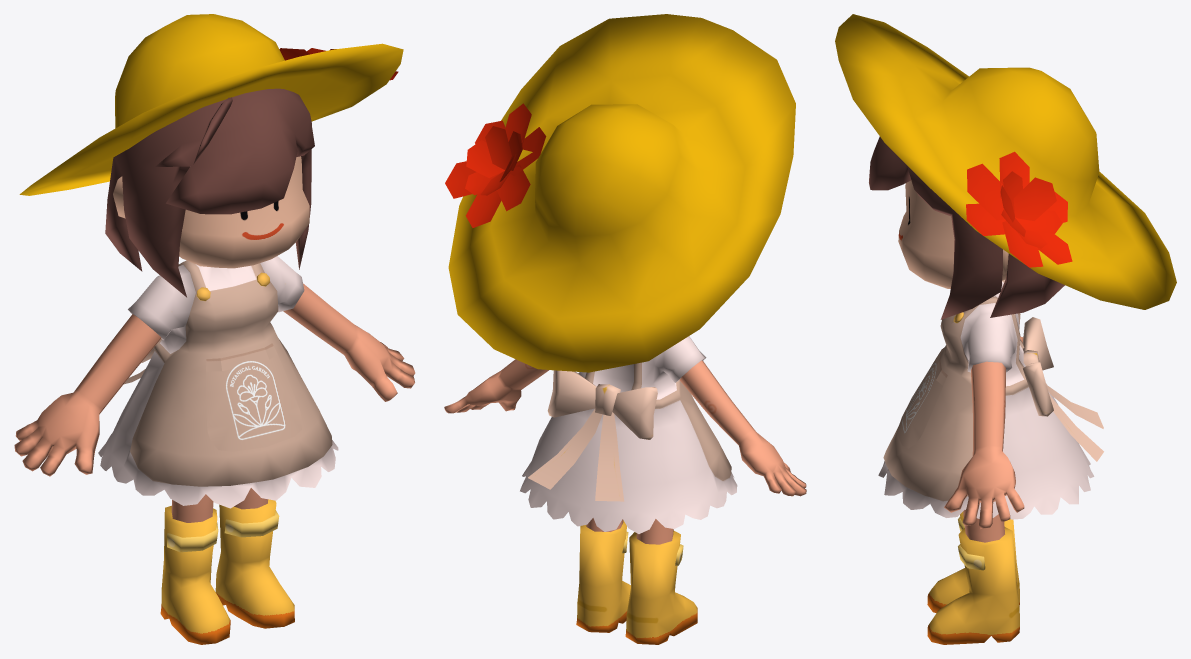
Rendered from girl.obj.
3 views of the same model, side by side, from view 1: azimuth 30°, elevation 25°; view 2: azimuth 150°, elevation 25°; view 3: azimuth 270°, elevation 25° (orthographic). The views are drawn at different scales.
Visible parts, largest first — view 1: body, hat; view 2: hat, body, flower; view 3: body, hat, flower.
Boxes of the visible parts, x1,y1,x2,y2 form: body: [14, 88, 415, 644]; hat: [19, 14, 403, 195]; hat: [448, 14, 795, 372]; body: [444, 336, 806, 644]; flower: [445, 103, 546, 227]; body: [869, 136, 1103, 644]; hat: [835, 14, 1176, 309]; flower: [966, 151, 1072, 267].
Size of the model in its own units: 435 by 655 by 350.
